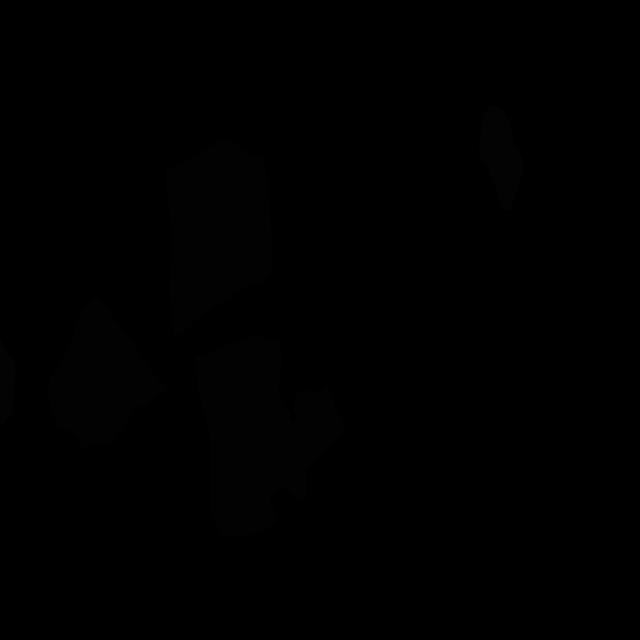cardboard: (196, 334, 345, 538), (165, 137, 272, 336), (47, 296, 169, 449)
metal: (479, 105, 524, 212), (0, 336, 16, 427)
